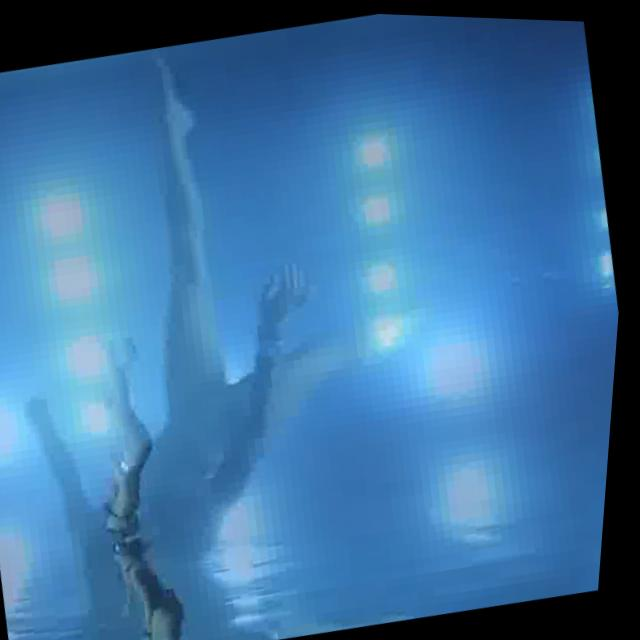human: (0, 7, 454, 640)
